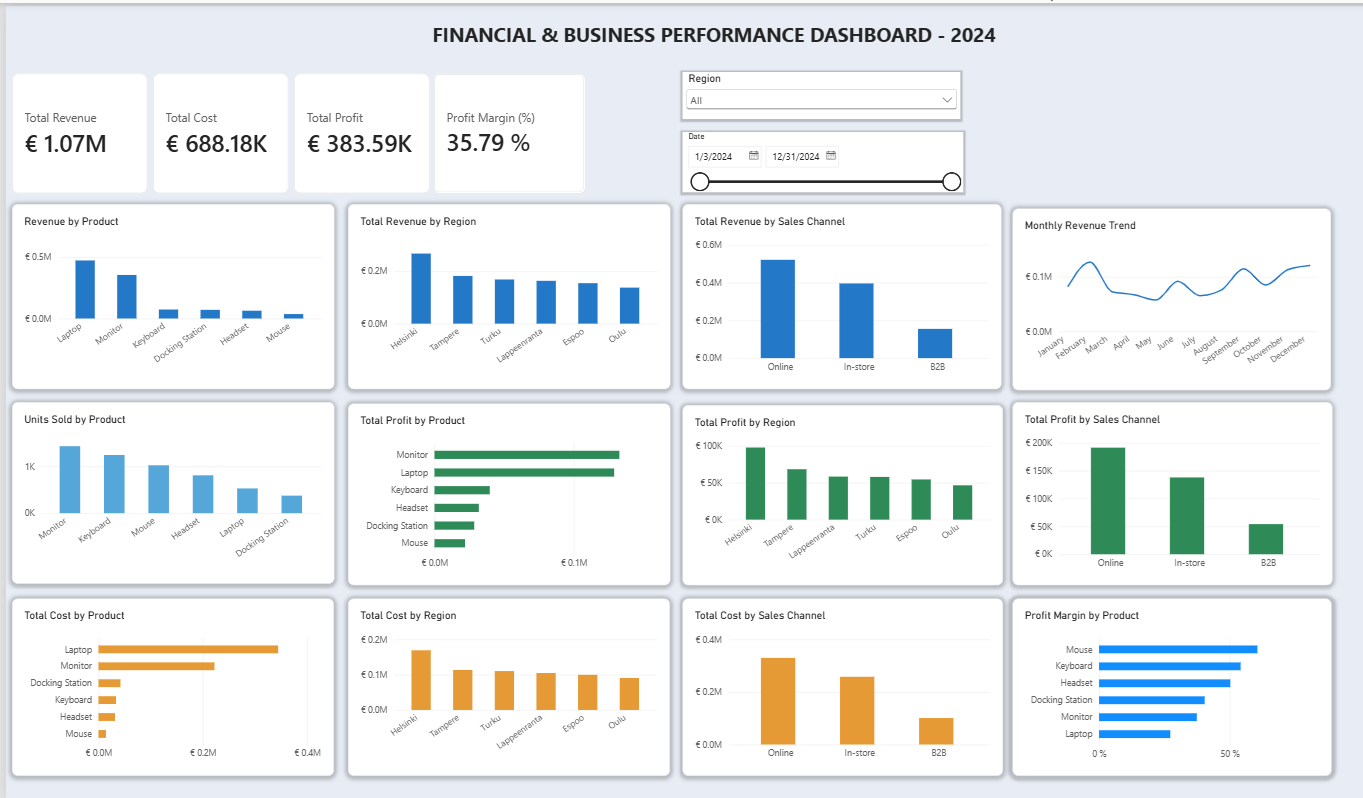

What the dashboard file says about the page in this screenshot:
{"tool":"powerbi","page":{"name":"Page 1","canvas":[1920,1080],"ordinal":0},"visuals":[{"type":"cardVisual","fields":{"Data":["SalesDataTable.Total Revenue","SalesDataTable.Total Cost","SalesDataTable.Total Profit"]},"box":[9.1,90.9,570.1,163.5],"z":0},{"type":"cardVisual","fields":{"Data":["SalesDataTable.Profit Margin (%)"]},"box":[581.5,90.9,206.7,163.5],"z":1000},{"type":"clusteredColumnChart","title":"Revenue by Product","fields":{"Category":["SalesDataTable.Product"],"Y":["SalesDataTable.Total Revenue"]},"box":[9.1,270.3,438.4,252.1],"z":2000},{"type":"clusteredColumnChart","title":"Total Revenue by Region","fields":{"Category":["SalesDataTable.Region"],"Y":["SalesDataTable.Total Revenue"]},"box":[465.6,270.3,438.4,252.1],"z":3000},{"type":"clusteredColumnChart","title":"Total Revenue by Sales Channel","fields":{"Category":["SalesDataTable.Sales_Channel"],"Y":["SalesDataTable.Total Revenue"]},"box":[920,270,434,252],"z":4000},{"type":"lineChart","title":"Monthly Revenue Trend","fields":{"Category":["SalesDataTable.Date.Variation.Date Hierarchy.Month","SalesDataTable.Date.Variation.Date Hierarchy.Day"],"Y":["SalesDataTable.Total Revenue"]},"box":[1369.7,274.7,433.3,247.5],"z":5000},{"type":"slicer","fields":{"Values":["SalesDataTable.Date"]},"box":[920,172,382,82],"z":6000},{"type":"clusteredBarChart","title":"Total Profit by Product","fields":{"Category":["SalesDataTable.Product"],"Y":["SalesDataTable.Total Profit"]},"box":[465.6,540.6,438.4,247.6],"z":7000},{"type":"clusteredColumnChart","title":"Units Sold by Product","fields":{"Category":["SalesDataTable.Product"],"Y":["Sum(SalesDataTable.Units_Sold)"]},"box":[9.1,538.3,438.4,247.6],"z":8000},{"type":"clusteredColumnChart","title":"Total Profit by Region","fields":{"Category":["SalesDataTable.Region"],"Y":["SalesDataTable.Total Profit"]},"box":[919.9,542.8,436.1,245.3],"z":9000},{"type":"clusteredColumnChart","title":"Total Profit by Sales Channel","fields":{"Category":["SalesDataTable.Sales_Channel"],"Y":["SalesDataTable.Total Profit"]},"box":[1369.9,538.7,435.5,249.5],"z":10000},{"type":"clusteredBarChart","title":"Total Cost by Product","fields":{"Category":["SalesDataTable.Product"],"Y":["SalesDataTable.Total Cost"]},"box":[9,806,438,241],"z":11000},{"type":"clusteredColumnChart","title":"Total Cost by Region","fields":{"Category":["SalesDataTable.Region"],"Y":["SalesDataTable.Total Cost"]},"box":[466,807,438,241],"z":13000},{"type":"clusteredColumnChart","title":"Total Cost by Sales Channel","fields":{"Category":["SalesDataTable.Sales_Channel"],"Y":["SalesDataTable.Total Cost"]},"box":[920,807,436,241],"z":14000},{"type":"textbox","box":[1543,867,376,213],"z":15000},{"type":"textbox","box":[9.1,20.4,1910.2,70.4],"z":16000},{"type":"slicer","fields":{"Values":["SalesDataTable.Region"]},"box":[920,90,378,64],"z":17000},{"type":"clusteredBarChart","title":"Profit Margin by Product","fields":{"Category":["SalesDataTable.Product"],"Y":["SalesDataTable.Profit Margin (%)"]},"box":[1369.6,806.5,433.7,241.3],"z":17001}]}

Visuals, with their boxes in screenshot pixels (x1, y1, x2, y2):
cardVisual - SalesDataTable.Total Revenue x SalesDataTable.Total Cost: (17,77,431,195)
cardVisual - SalesDataTable.Profit Margin (%): (433,77,583,195)
"Revenue by Product" clusteredColumnChart: (17,207,335,390)
"Total Revenue by Region" clusteredColumnChart: (349,207,667,390)
"Total Revenue by Sales Channel" clusteredColumnChart: (678,207,993,390)
"Monthly Revenue Trend" lineChart: (1005,210,1319,390)
slicer - SalesDataTable.Date: (678,135,956,195)
"Total Profit by Product" clusteredBarChart: (349,403,667,583)
"Units Sold by Product" clusteredColumnChart: (17,401,335,581)
"Total Profit by Region" clusteredColumnChart: (678,405,995,583)
"Total Profit by Sales Channel" clusteredColumnChart: (1005,402,1321,583)
"Total Cost by Product" clusteredBarChart: (17,596,335,771)
"Total Cost by Region" clusteredColumnChart: (349,596,667,771)
"Total Cost by Sales Channel" clusteredColumnChart: (678,596,995,771)
textbox: (1131,640,1362,795)
textbox: (17,25,1362,77)
slicer - SalesDataTable.Region: (678,76,953,122)
"Profit Margin by Product" clusteredBarChart: (1005,596,1320,771)
